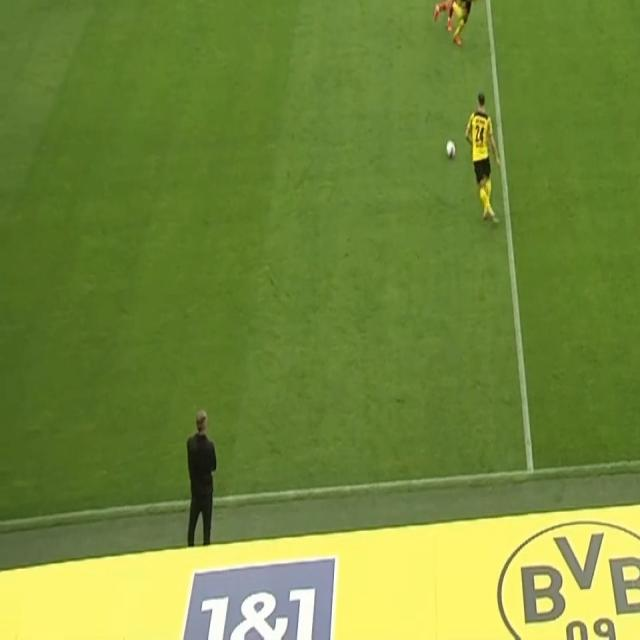ball: (444, 138, 458, 160)
